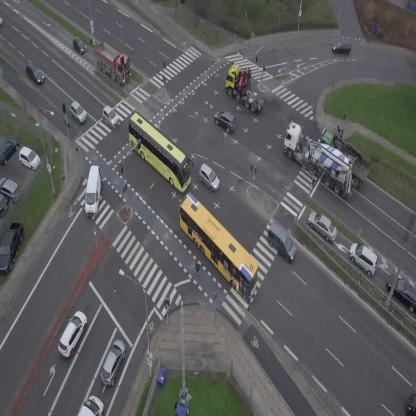bicycle: (191, 261, 203, 283)
bus: (164, 192, 272, 302), (115, 111, 204, 194)
car: (53, 308, 92, 359), (260, 221, 304, 264), (97, 337, 130, 388), (344, 239, 385, 278), (303, 207, 343, 244), (193, 163, 225, 193), (210, 105, 241, 134), (22, 60, 47, 87), (65, 100, 91, 125), (97, 104, 122, 129), (68, 34, 89, 57), (333, 40, 351, 54)
lorry: (271, 119, 370, 202), (313, 123, 377, 190), (217, 58, 277, 115), (86, 36, 140, 87), (82, 164, 105, 217), (78, 395, 103, 416)
